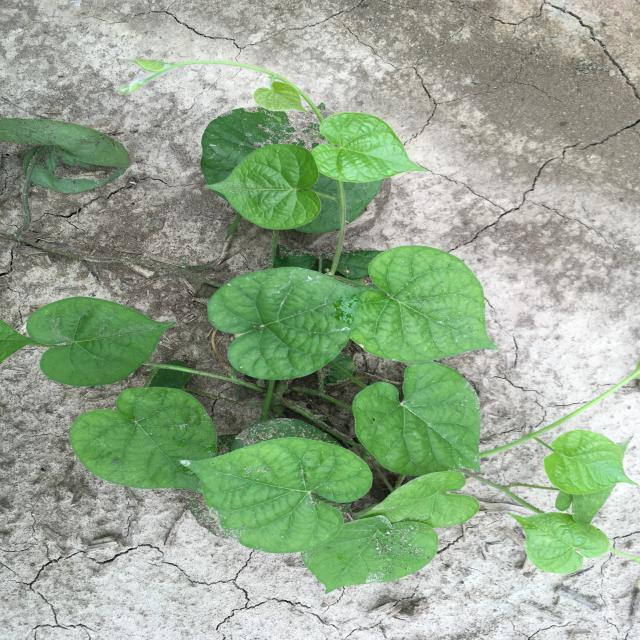MorningGlory: (25, 56, 639, 594)
